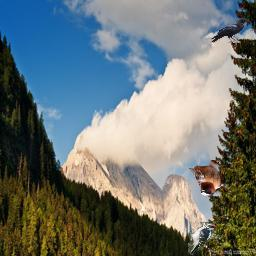Crow: (211, 18, 251, 43)
Swallow: (189, 160, 224, 196)
Woodpecker: (188, 221, 216, 255)
